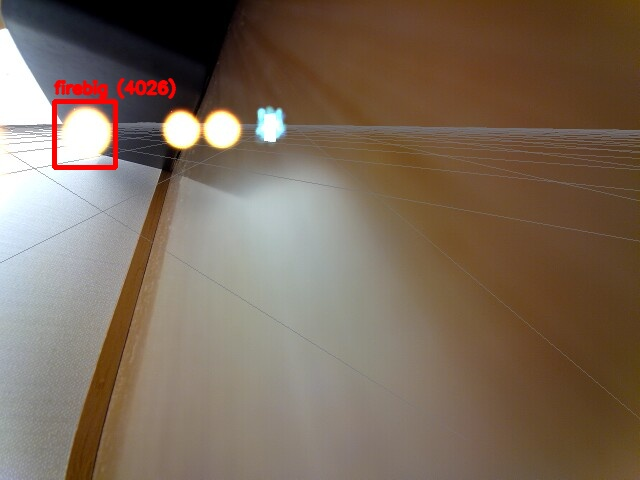firebig: (54, 101, 115, 167)
